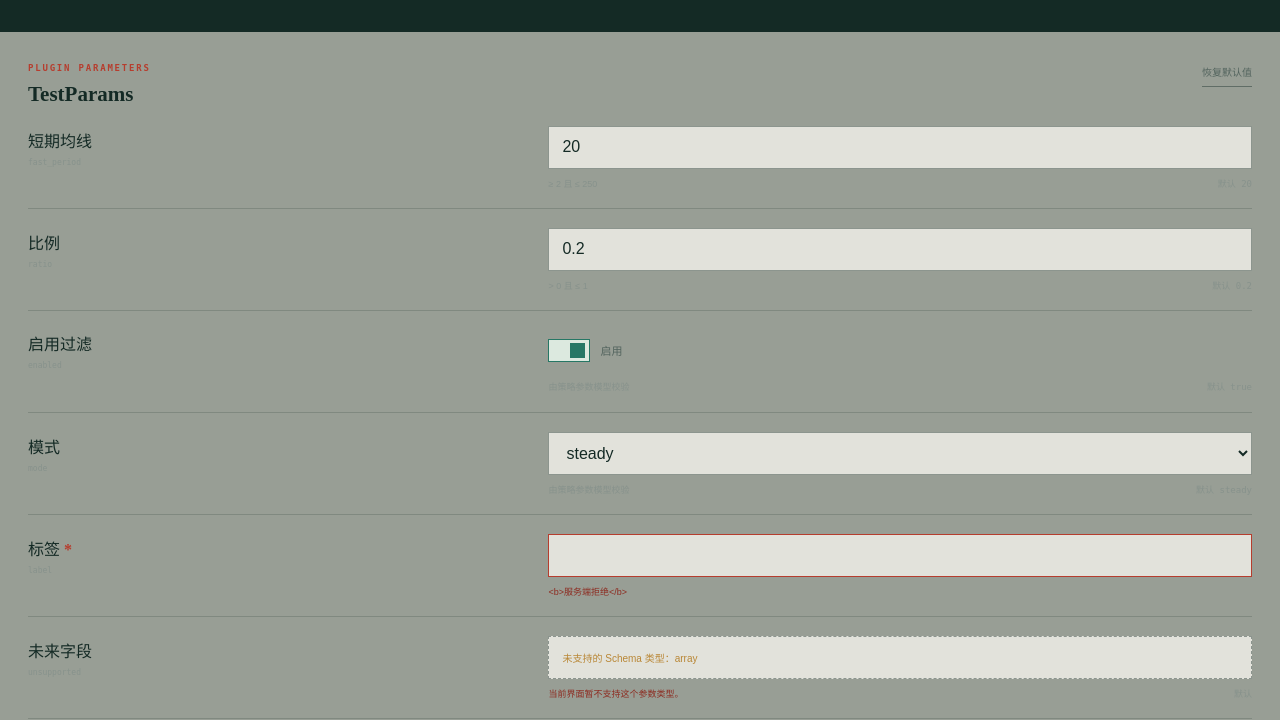
Test: ParameterForm › shows local constraints and server errors without unsafe markup
Step 1. Replace the text in the number field labelled "短期均线" with "1" → (900, 147), box left=548, top=126, right=1252, bottom=168
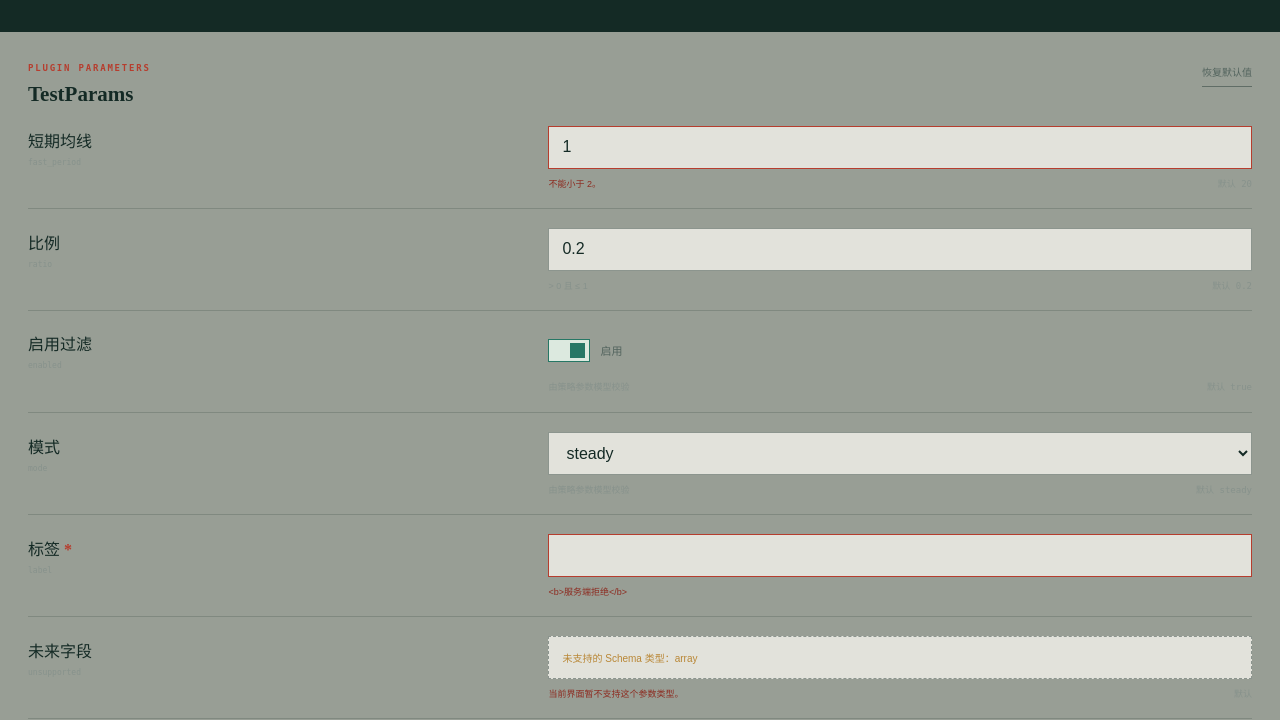
Result: the text "不能小于 2。" is shown at left=548, top=176, right=601, bottom=190
